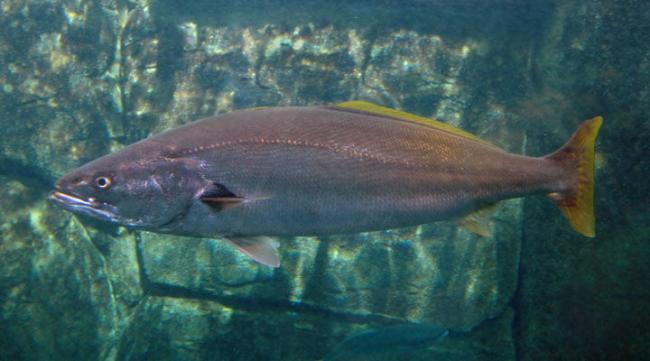fish: (50, 100, 603, 240)
